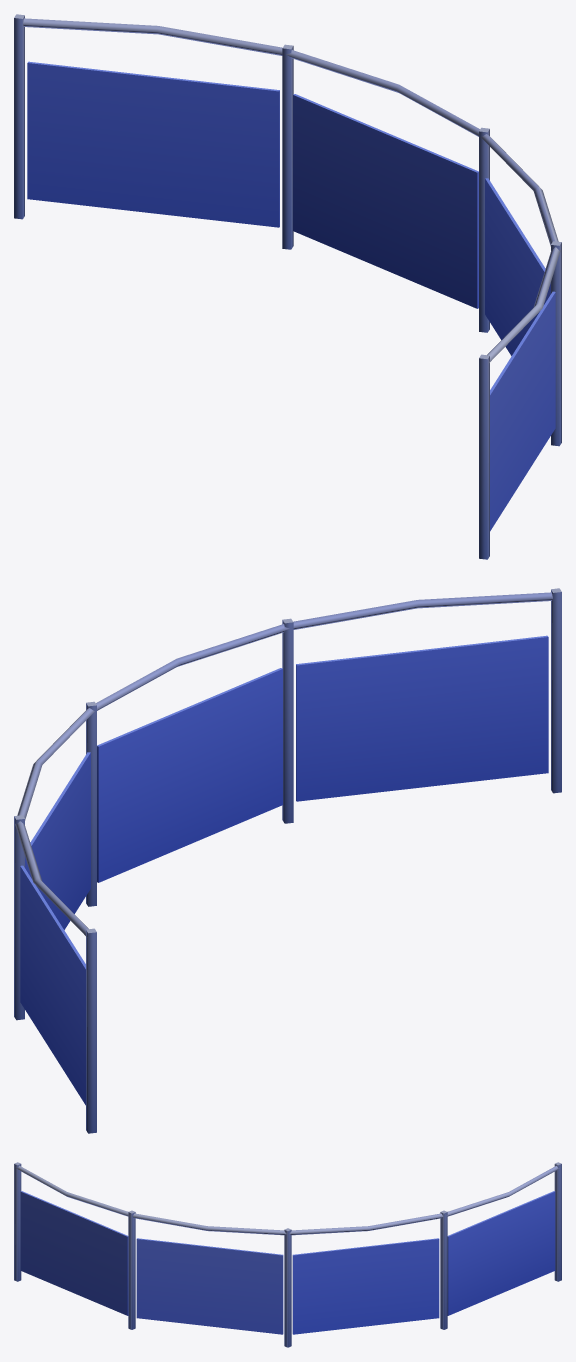
File: arch.railing.glb
The picture shows the model from 3 angles, top to bottom: view 1: azimuth 30°, elevation 25°; view 2: azimuth 150°, elevation 25°; view 3: azimuth 270°, elevation 25°; orthographic projection. The views are drawn at different scales.
Parts seen in each view (by area): view 1: kit_railing_infill, kit_railing; view 2: kit_railing_infill, kit_railing; view 3: kit_railing_infill, kit_railing.
Part boxes in pixels (x1,y1,x2,y2): kit_railing_infill: [27, 61, 555, 531]; kit_railing: [14, 14, 561, 559]; kit_railing_infill: [20, 635, 548, 1105]; kit_railing: [14, 588, 561, 1133]; kit_railing_infill: [20, 1191, 555, 1334]; kit_railing: [14, 1162, 561, 1347].
Bounding box in the file's own units: 1.31 × 1.03 × 4.39.
